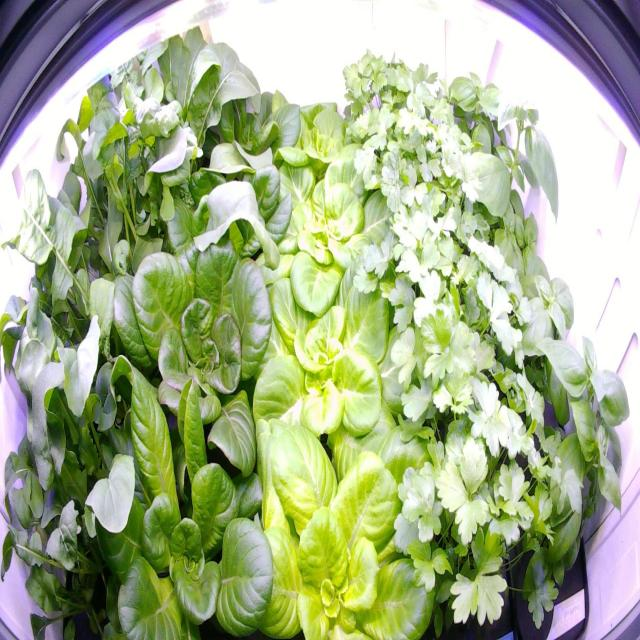young: (228, 395, 471, 639), (79, 350, 281, 636), (228, 260, 454, 508), (90, 224, 278, 501), (239, 146, 419, 318), (150, 146, 292, 266), (196, 63, 304, 174), (262, 86, 379, 186)
